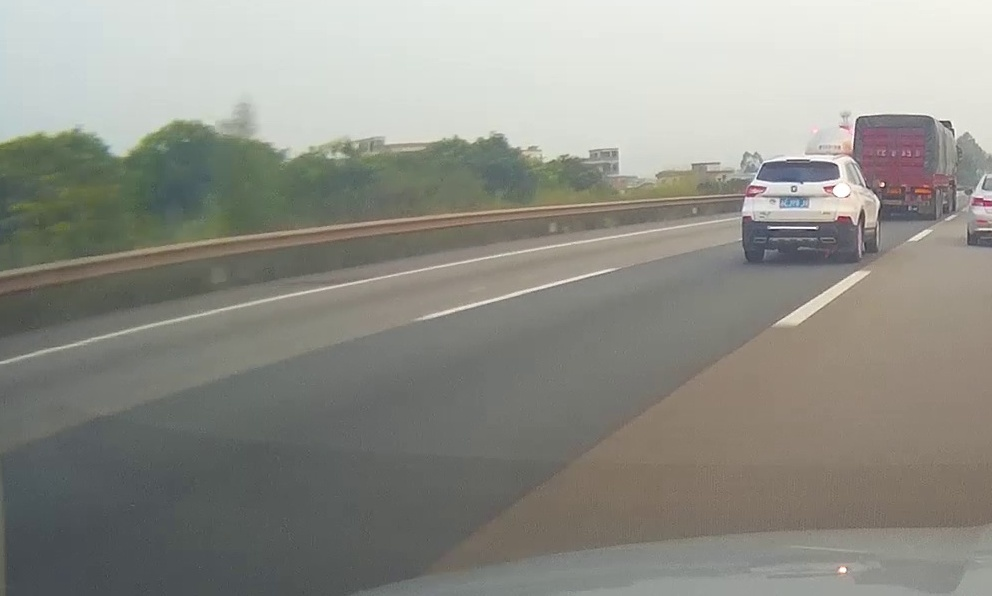L_light: (745, 185, 767, 197)
R_light: (823, 182, 851, 198)
T_light: (786, 159, 810, 163)
day-right: (741, 155, 857, 262)
